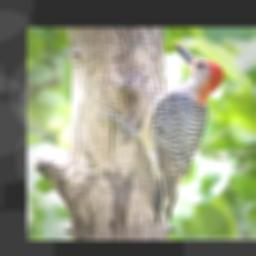Woodpecker: (93, 40, 233, 223)
